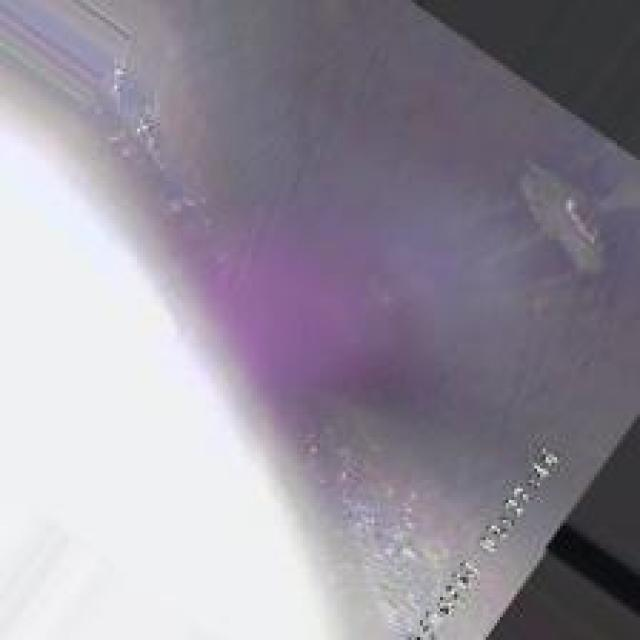ferrule: (520, 154, 614, 272)
